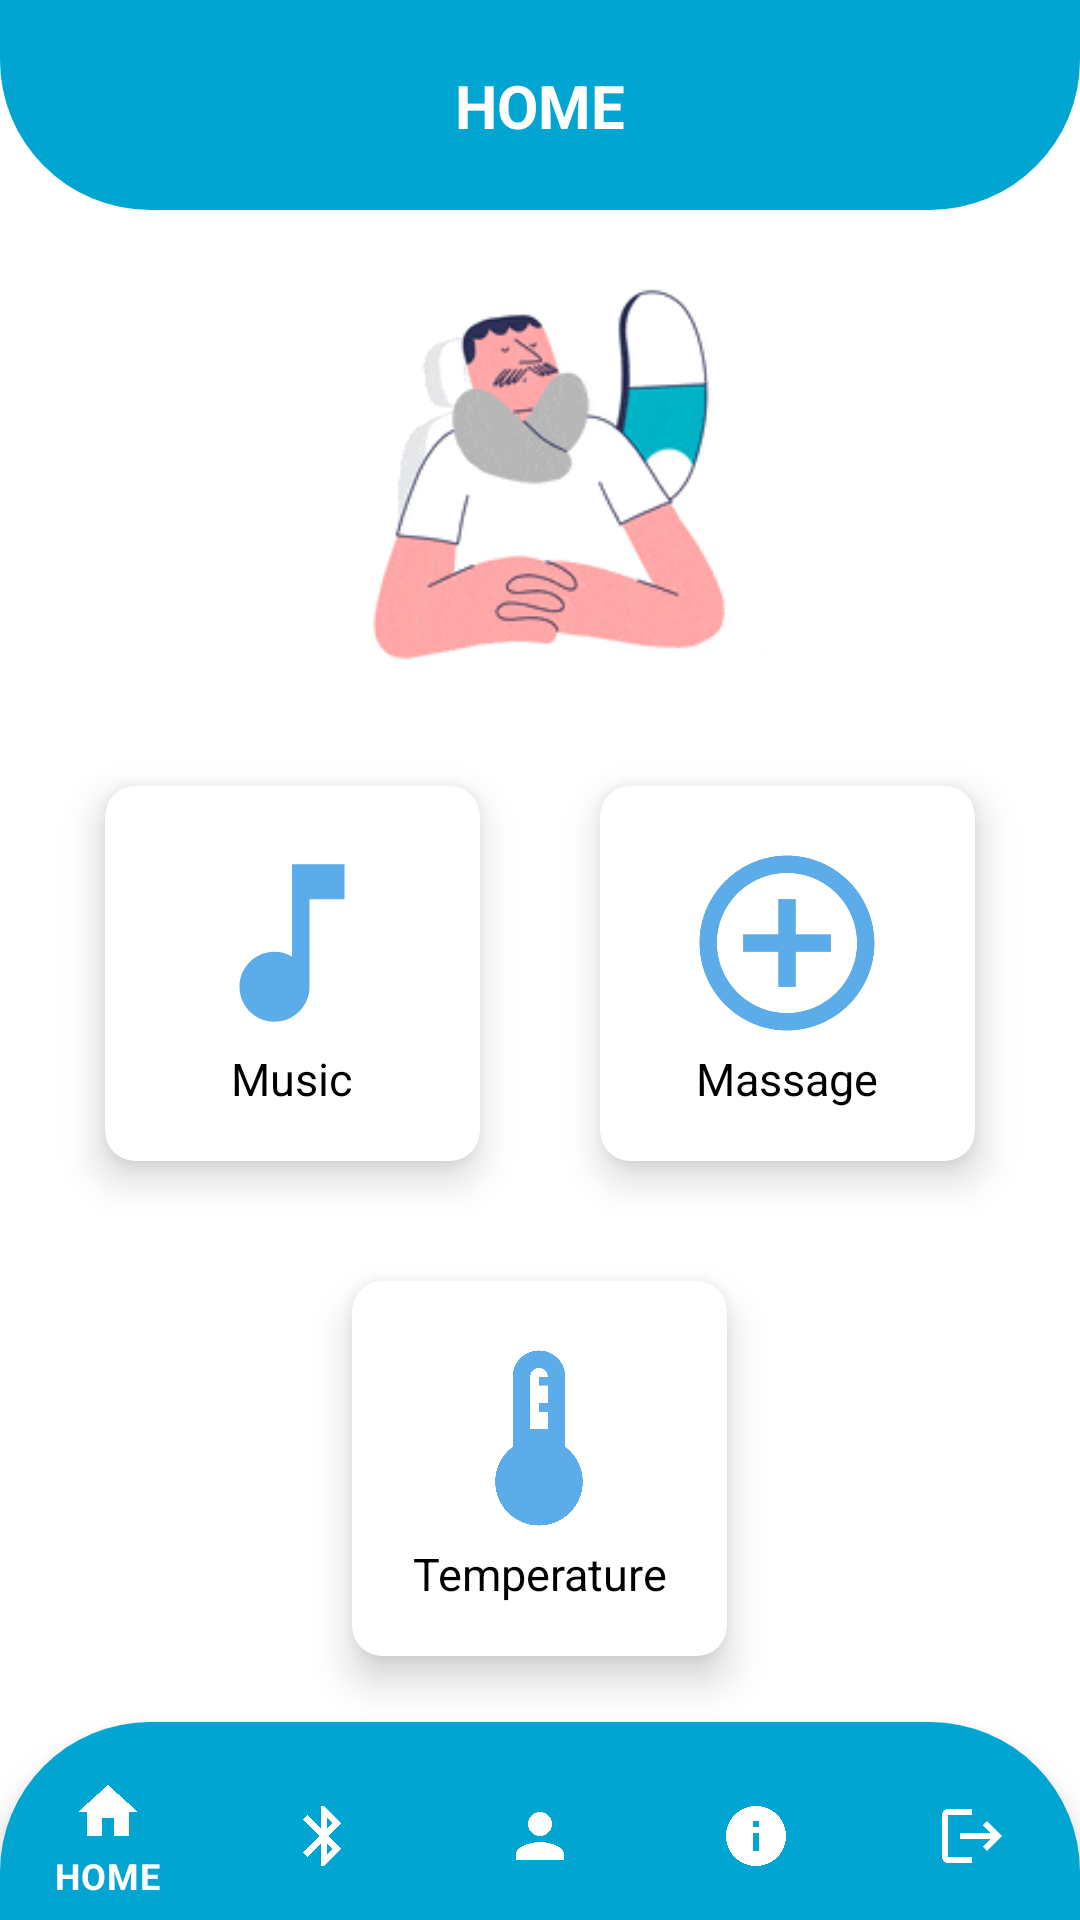

Locate icon controls on the screen. Image size 1080px×1920px, boxes as (x1, y1, x2, y2).
control point: (699, 855, 875, 1031)
device thermostat: (495, 1350, 583, 1526)
